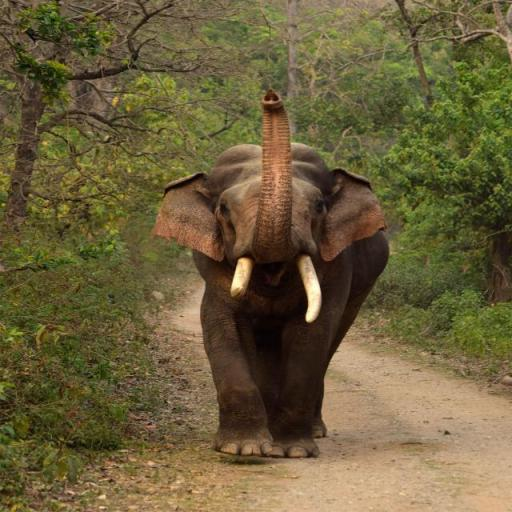Elephant: (152, 88, 390, 458)
